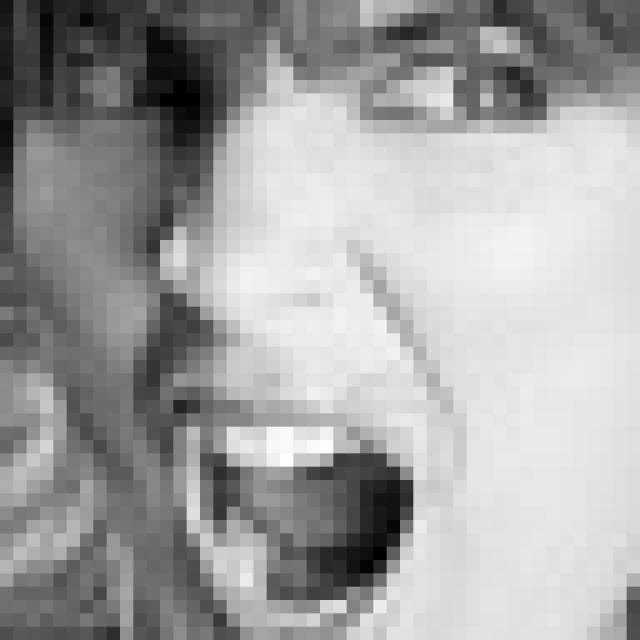angry: (63, 0, 555, 640)
